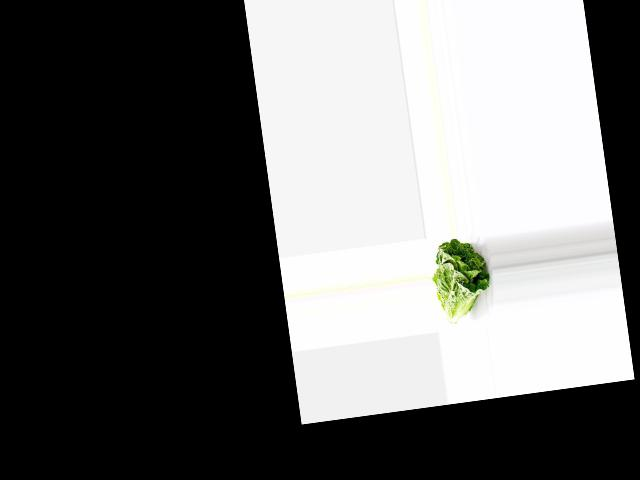lettuce: (426, 235, 495, 324)
